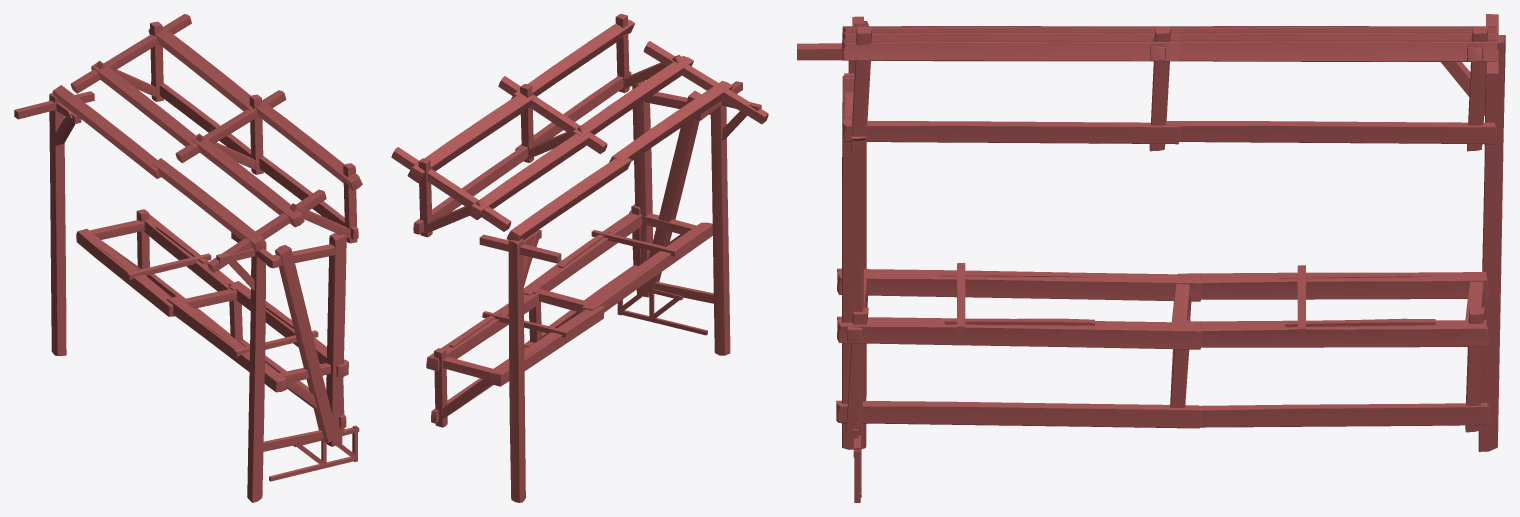
File: Beam_Structure_19A_Lod0.fbx
The picture shows the model from 3 angles, left to right: view 1: azimuth 30°, elevation 25°; view 2: azimuth 150°, elevation 25°; view 3: azimuth 270°, elevation 25°; orthographic projection. The views are drawn at different scales.
Visible parts, largest first — view 1: Beam_Structure_19A_Lod0; view 2: Beam_Structure_19A_Lod0; view 3: Beam_Structure_19A_Lod0.
Boxes of the visible parts, x1=… form: Beam_Structure_19A_Lod0: x1=14, y1=14, x2=362, y2=502; Beam_Structure_19A_Lod0: x1=391, y1=14, x2=768, y2=502; Beam_Structure_19A_Lod0: x1=797, y1=14, x2=1505, y2=502.
Bounding box in the file's own units: 280 × 480 × 620.
